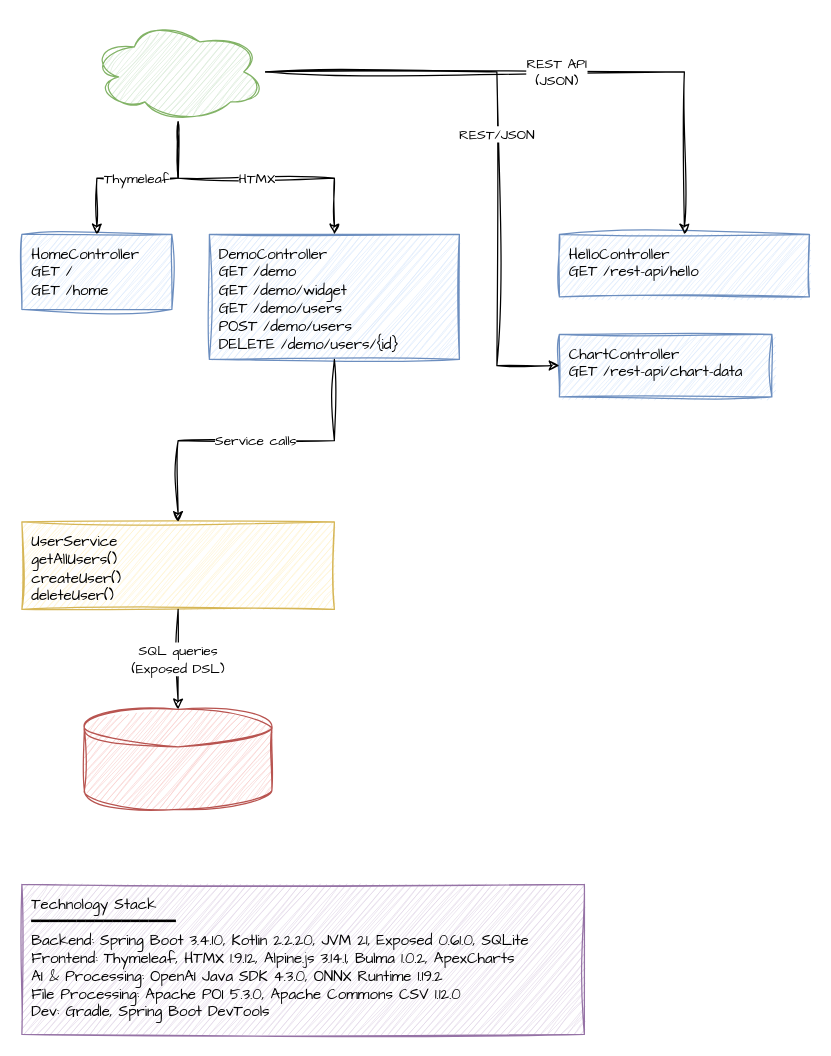
Image size: 831x1056. Some labels were removed from this diagram. The centre of each missing label's shape, as x and y in pixels:
"Client/Browser" goes at pixel 177 71.
"SQLite Database Users table" goes at pixel 177 758.
